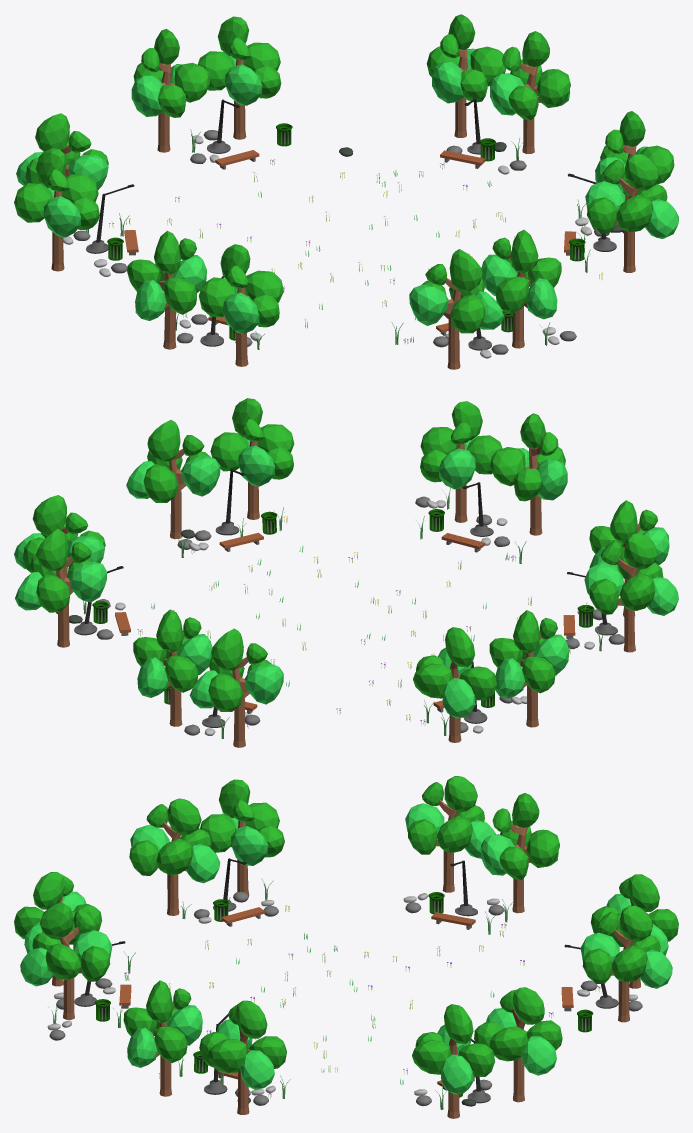
The picture shows the model from 3 angles, top to bottom: view 1: azimuth 30°, elevation 25°; view 2: azimuth 150°, elevation 25°; view 3: azimuth 270°, elevation 25°; orthographic projection. The views are drawn at different scales.
Parts seen in each view (by area): view 1: Cylinder.057, Cylinder.059, Cylinder.060, Cylinder.010, Cylinder.007, Cylinder.011, Cylinder.005, Cylinder.012, Cylinder.004, Cylinder.015, Cylinder.006, Cylinder.016; view 2: Cylinder.007, Cylinder.016, Cylinder.012, Cylinder.015, Cylinder.005, Cylinder.010, Cylinder.057, Cylinder.060, Cylinder.059, Cylinder.006, Cylinder.004, Cylinder.011; view 3: Cylinder.011, Cylinder.060, Cylinder.005, Cylinder.010, Cylinder.015, Cylinder.016, Cylinder.057, Cylinder.007, Cylinder.006, Cylinder.004, Cylinder.059, Cylinder.012.
Boxes of the visible parts, box(x1,y1,x2,y2) form: Cylinder.057: box(585, 154, 678, 272); Cylinder.059: box(409, 249, 504, 369); Cylinder.060: box(481, 229, 561, 348); Cylinder.010: box(14, 148, 99, 271); Cylinder.007: box(127, 230, 206, 349); Cylinder.011: box(199, 244, 283, 366); Cylinder.005: box(198, 16, 281, 139); Cylinder.012: box(131, 29, 209, 152); Cylinder.004: box(490, 31, 570, 153); Cylinder.015: box(426, 14, 506, 137); Cylinder.006: box(16, 113, 108, 189); Cylinder.016: box(595, 111, 674, 233); Cylinder.007: box(584, 533, 678, 652); Cylinder.016: box(126, 420, 220, 539); Cylinder.012: box(189, 628, 283, 747); Cylinder.015: box(15, 528, 106, 647); Cylinder.005: box(133, 609, 212, 726); Cylinder.010: box(489, 610, 569, 727); Cylinder.057: box(210, 398, 294, 519); Cylinder.060: box(420, 401, 502, 522); Cylinder.059: box(490, 413, 567, 535); Cylinder.006: box(413, 627, 496, 742); Cylinder.004: box(14, 495, 105, 613); Cylinder.011: box(589, 500, 669, 616); Cylinder.011: box(129, 798, 220, 915); Cylinder.060: box(20, 903, 112, 1019); Cylinder.005: box(580, 905, 672, 1022); Cylinder.010: box(405, 776, 495, 892); Cylinder.015: box(474, 987, 562, 1102); Cylinder.016: box(199, 1000, 286, 1114); Cylinder.057: box(123, 980, 202, 1096); Cylinder.007: box(200, 779, 284, 895); Cylinder.006: box(481, 793, 559, 913); Cylinder.004: box(412, 1004, 495, 1118); Cylinder.059: box(14, 872, 102, 986); Cylinder.012: box(590, 874, 678, 988).
Bounding box in the file's own units: 17.69 × 3.71 × 18.95.
